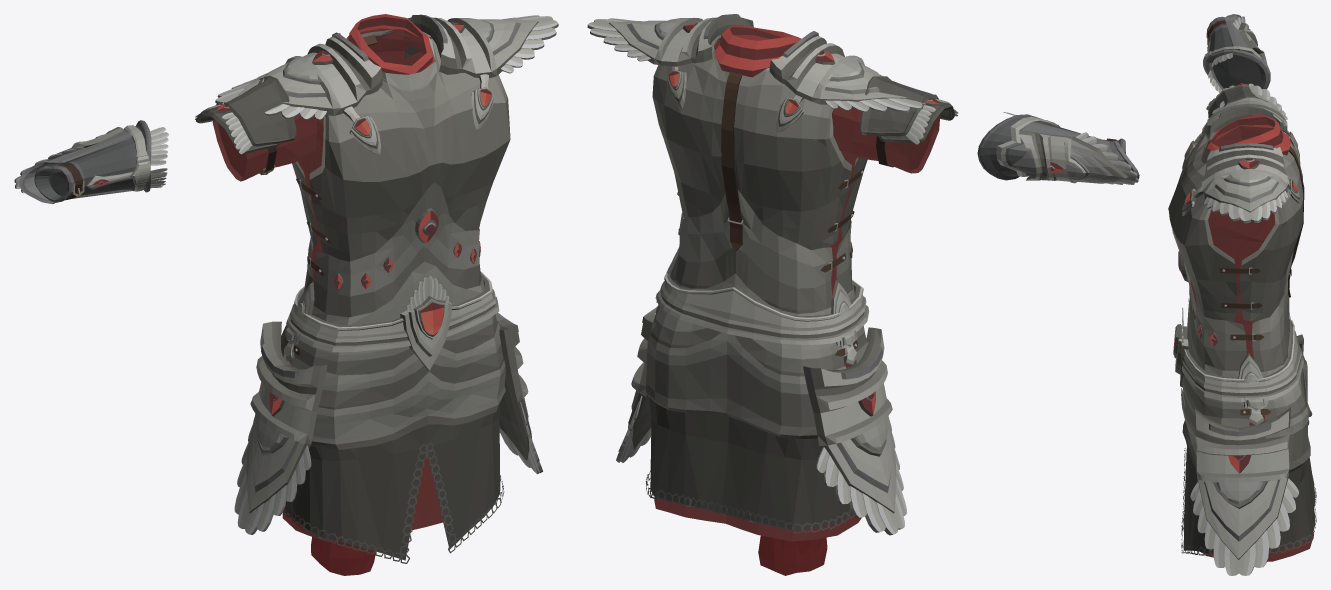
The model's file is lostCrownArmorFemale.glb.
3 renders of one model, left to right at view 1: azimuth 30°, elevation 25°; view 2: azimuth 150°, elevation 25°; view 3: azimuth 270°, elevation 25°, orthographic. The views are drawn at different scales.
Parts seen in each view (by area): view 1: lostCrownTorso, lostCrownWristGuard, lostCrownUpperArm, lostCrownLowerLeg; view 2: lostCrownTorso, lostCrownWristGuard, lostCrownUpperArm, lostCrownLowerLeg; view 3: lostCrownTorso, lostCrownWristGuard, lostCrownUpperArm.
Part boxes in pixels (x1,y1,x2,y2): lostCrownTorso: [215, 14, 558, 563]; lostCrownWristGuard: [14, 120, 168, 204]; lostCrownUpperArm: [195, 75, 317, 181]; lostCrownLowerLeg: [311, 537, 375, 575]; lostCrownTorso: [587, 14, 926, 541]; lostCrownWristGuard: [977, 112, 1139, 184]; lostCrownUpperArm: [832, 76, 958, 173]; lostCrownLowerLeg: [758, 535, 827, 575]; lostCrownTorso: [1168, 85, 1316, 575]; lostCrownWristGuard: [1203, 14, 1270, 93]; lostCrownUpperArm: [1206, 83, 1267, 144].
Bounding box in the file's own units: 1.23 × 1.15 × 0.3458.
